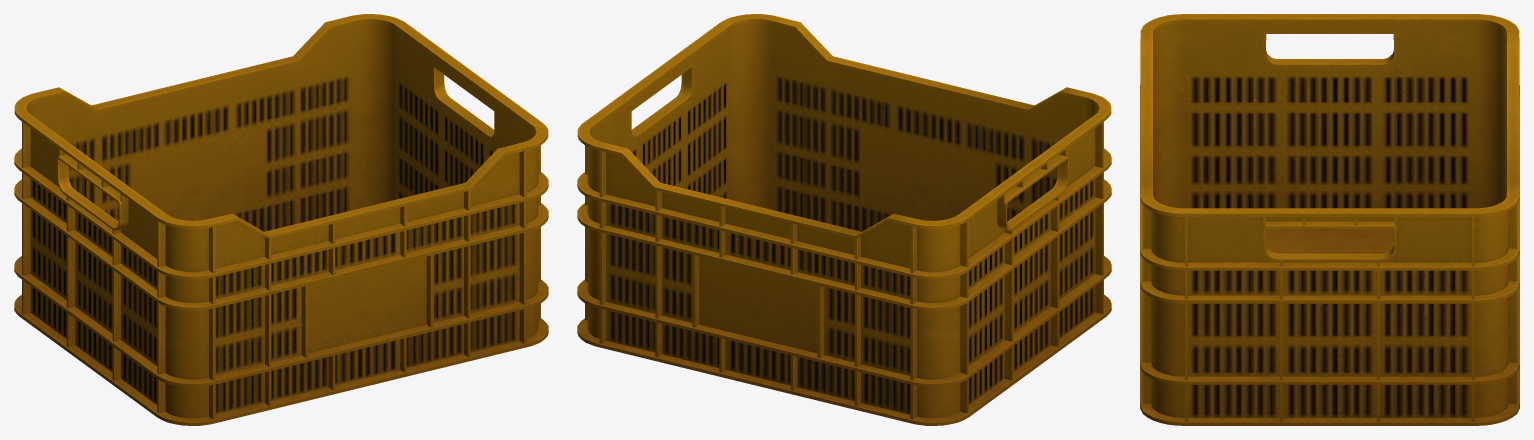
The model's file is plastic_crate_02.glb.
3 renders of one model, left to right at view 1: azimuth 30°, elevation 25°; view 2: azimuth 150°, elevation 25°; view 3: azimuth 270°, elevation 25°, orthographic. The views are drawn at different scales.
Visible parts, largest first — view 1: plastic_crate_02; view 2: plastic_crate_02; view 3: plastic_crate_02.
Boxes of the visible parts, <box> form: plastic_crate_02: <box>14,14,548,425</box>; plastic_crate_02: <box>577,14,1111,425</box>; plastic_crate_02: <box>1140,14,1519,425</box>.
Bounding box in the file's own units: 0.5055 × 0.2541 × 0.4055.
Materials: 1 (1 with a texture image).
